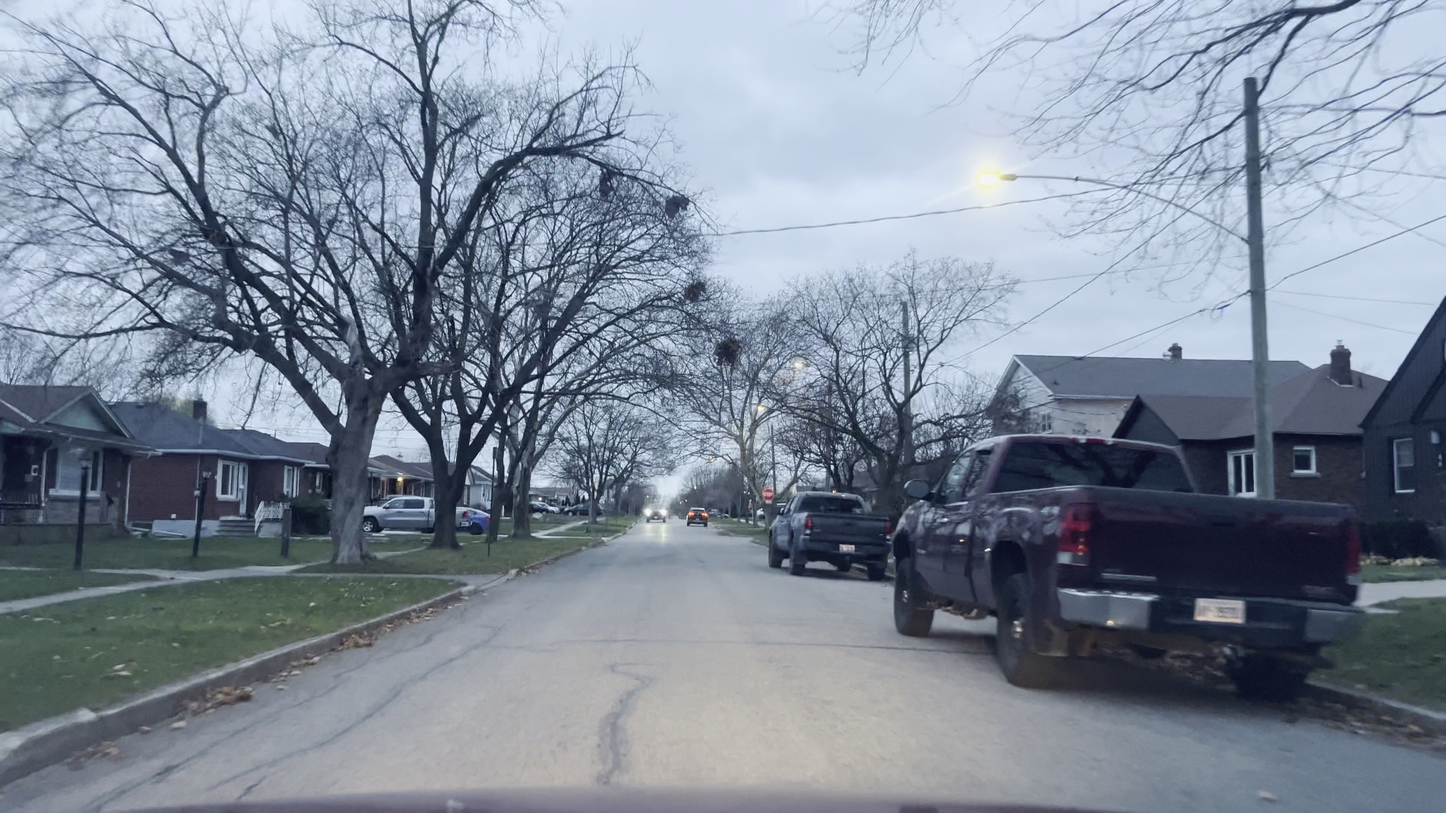cracks: (96, 742, 186, 807), (599, 652, 636, 788), (235, 746, 310, 788), (328, 695, 383, 742), (389, 659, 438, 709)
